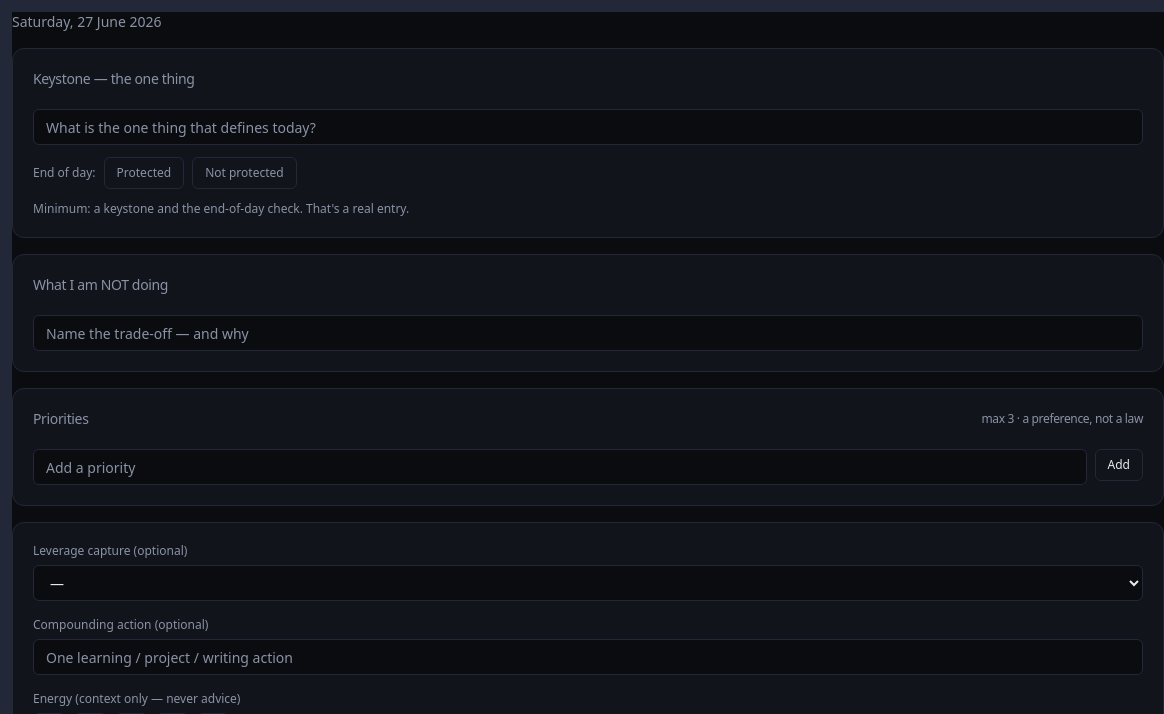
Test case: InteractiveDeck › shows the minimum-viable-day note until a priority is added
Check: the field with placeholder "What is the one thing that defines today?" is shown, box [33,109,1143,145]
Check: the text "Minimum: a keystone" is shown, box [33,200,409,217]
Step 1. Type "First" into the field with placeholder "Add a priority" → (560, 467), box [33,449,1087,485]
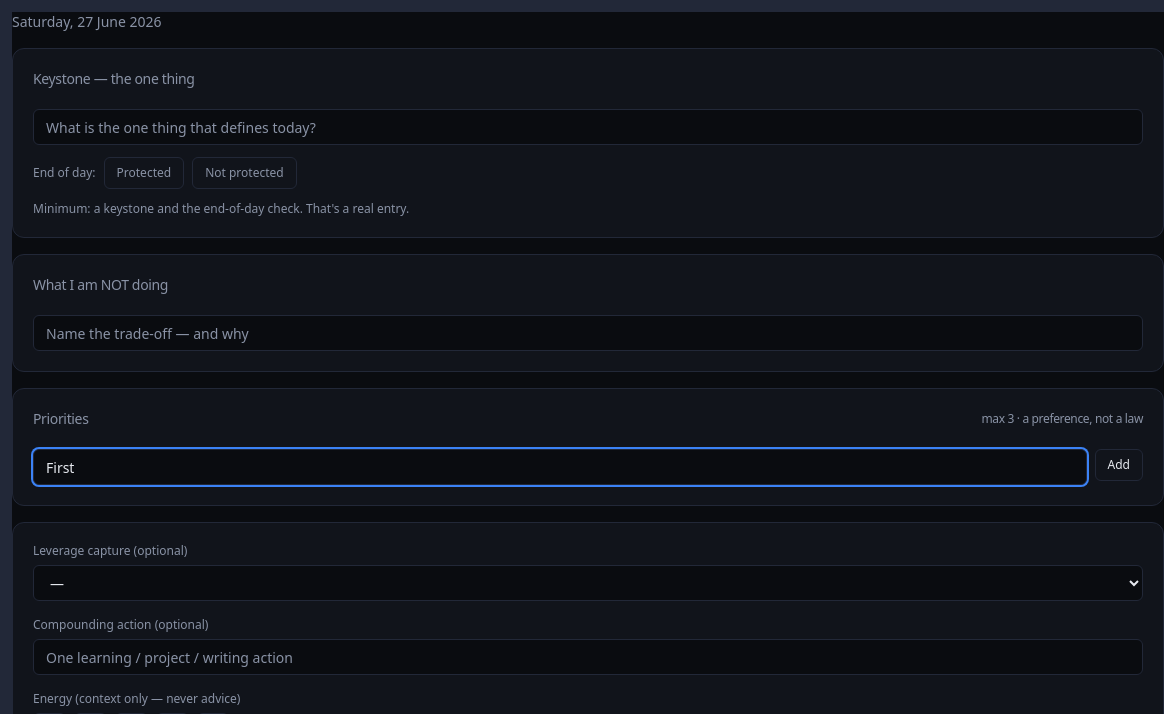
Step 2. Click the button "Add" → (1119, 465), box [1095,449,1143,481]
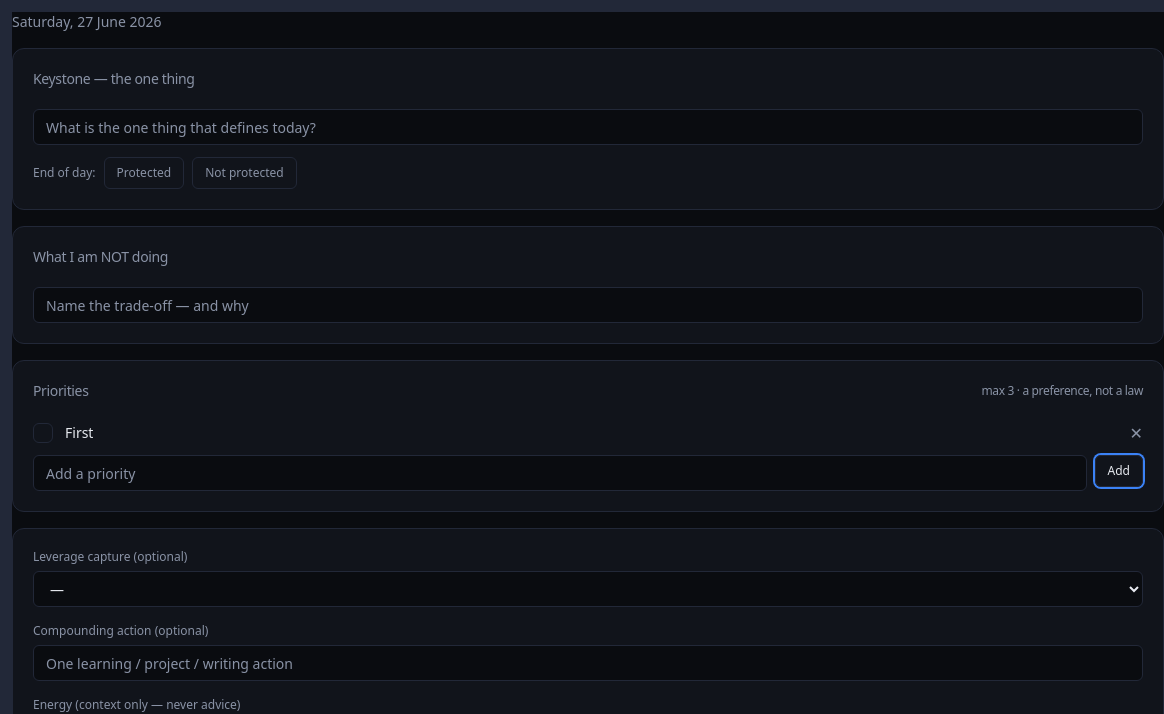
Check: the text "Minimum: a keystone" is gone
